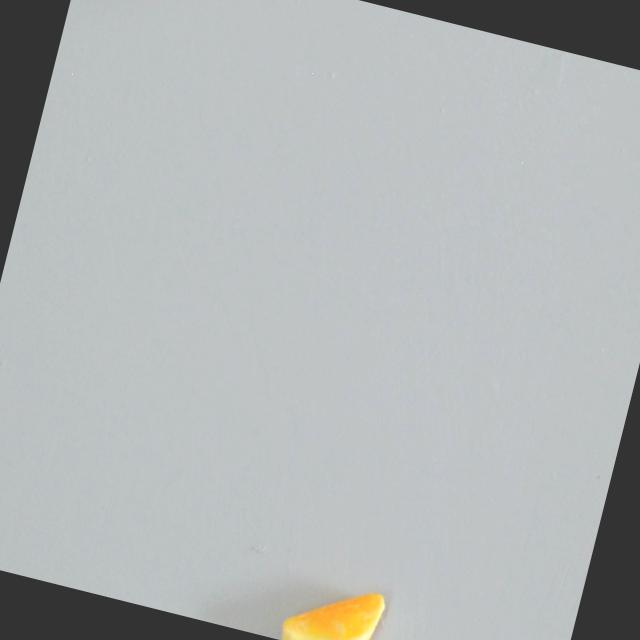pelicula: (276, 570, 387, 640)
